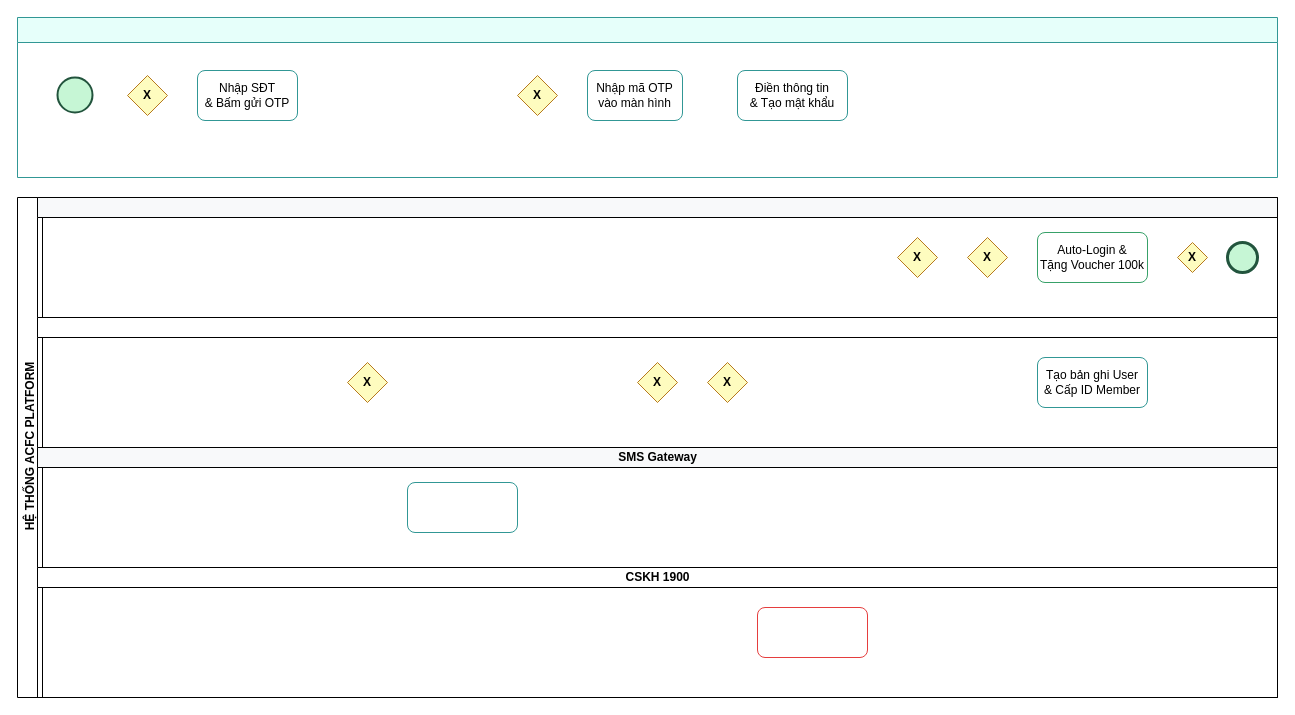
The diagram is 1295 pixels wide and 715 high, and some of its shapes have lost their labels. The shapes that lost their labels are listed below. From the top down, each one's box as (x1, y1, x2, y2) in pixels, then its label:
(16, 16, 1278, 178): KHÁCH HÀNG (CUSTOMER)
(36, 196, 1278, 318): Frontend UI
(36, 316, 1278, 448): Backend Core
(406, 482, 518, 532): Sinh mã ngẫu nhiên & Gửi SMS OTP
(756, 606, 868, 658): CSKH 1900 3038 xác minh mở khóa
